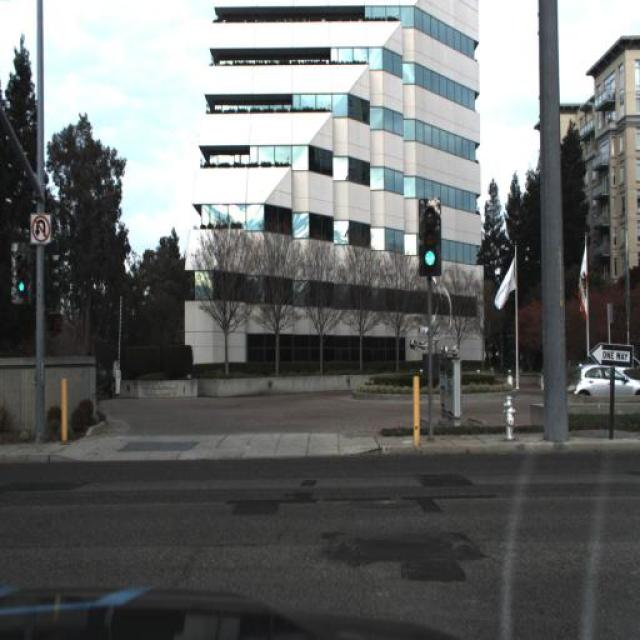car: (574, 362, 640, 406)
trafficLight-GreenLeft: (418, 200, 442, 276), (417, 206, 441, 280), (13, 260, 32, 305), (16, 250, 26, 300)
